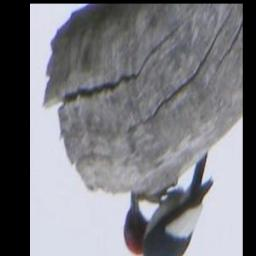Woodpecker: (120, 149, 217, 256)
